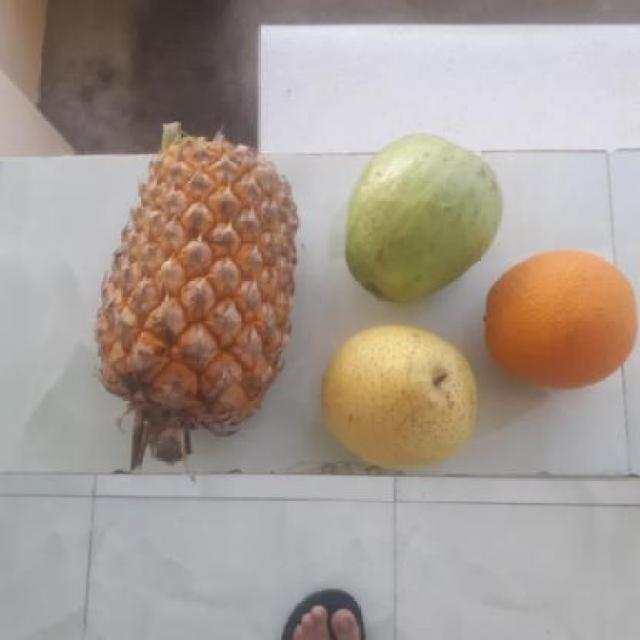guava: (338, 138, 500, 298)
oren: (483, 248, 640, 390)
pear: (314, 325, 481, 470)
pineapple: (95, 135, 292, 434)
